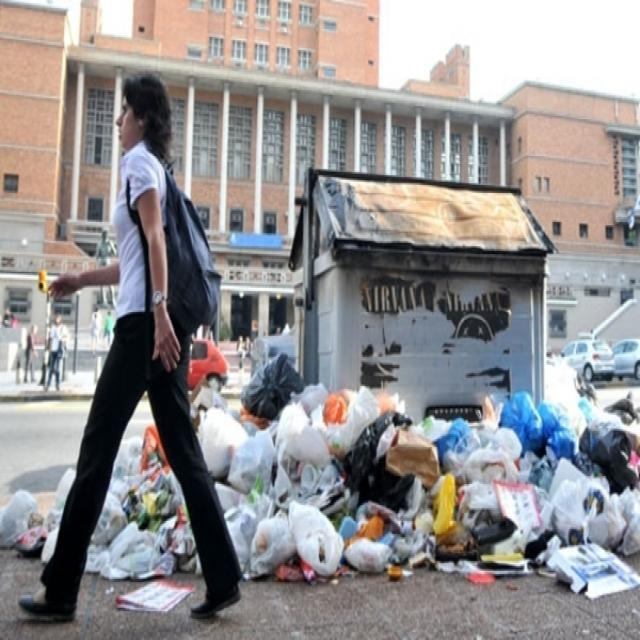garbage: (244, 373, 639, 595), (86, 430, 204, 622), (0, 487, 55, 561), (190, 384, 244, 442)
